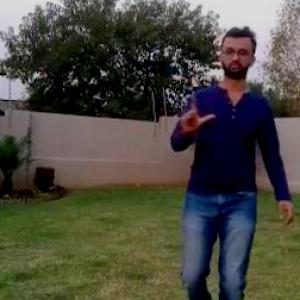land_hand: (166, 86, 216, 139)
